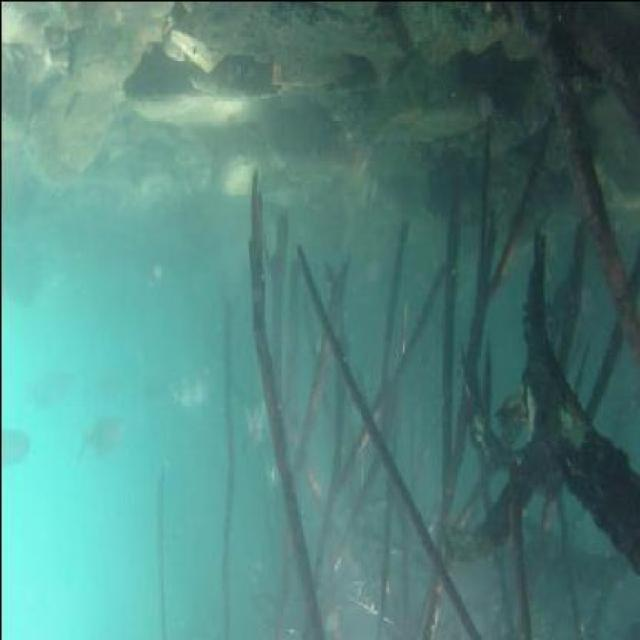Caranx_sexfasciatus_juvenile: (72, 404, 134, 459), (24, 360, 71, 411), (163, 362, 206, 416), (0, 422, 37, 478)
